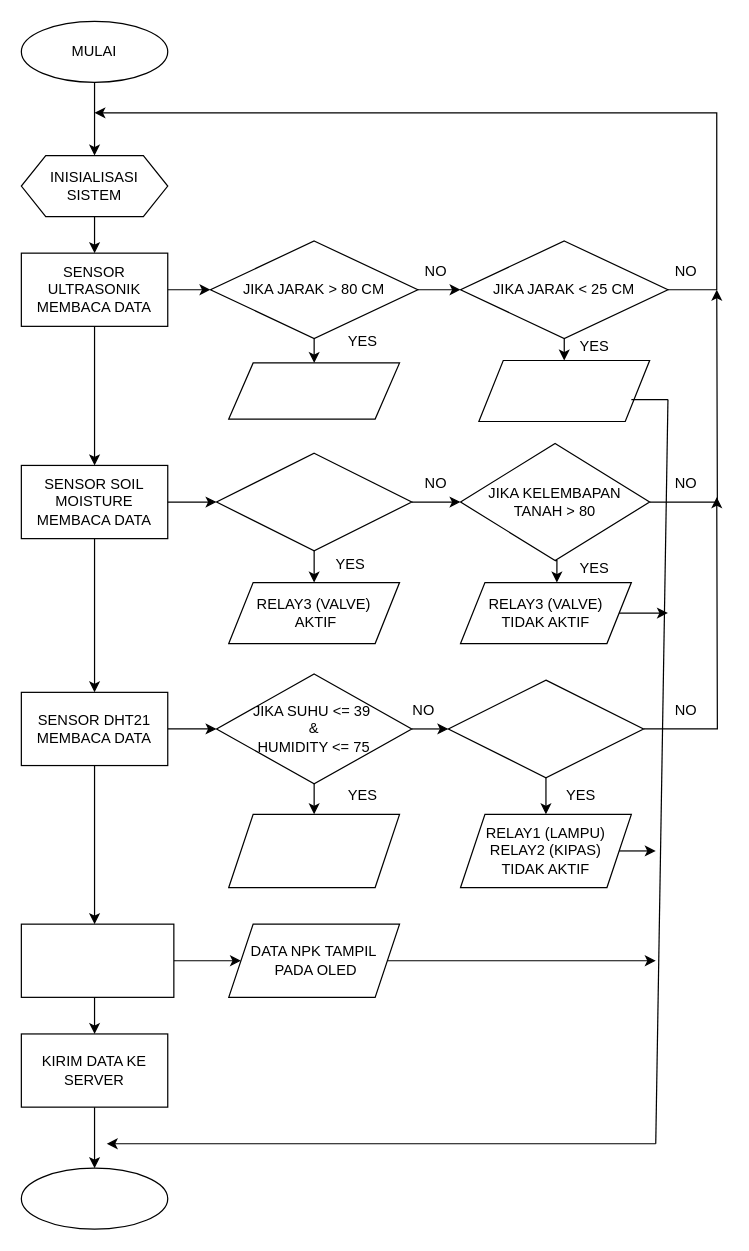
Some shapes in this 749 by 1251 pixel diagram are drawn without their labels. The centre of each missing label's shape, as x and y in pixels:
"JIKA KELEMBAPAN TANAH < 60" belongs at pixel 313 501.
"JIKA SUHU >= 42 & HUMIDITY >= 83" belongs at pixel 545 728.
"RELAY1 (LAMPU) RELAY2 (KIPAS) AKTIF" belongs at pixel 314 850.
"RELAY4 (POMPA) AKTIF" belongs at pixel 314 390.
"RELAY4 (POMPA) TIDAK AKTIF" belongs at pixel 564 390.
"SELESAI" belongs at pixel 94 1198.
"SENSOR NPK MEMBACA DATA" belongs at pixel 97 960.
